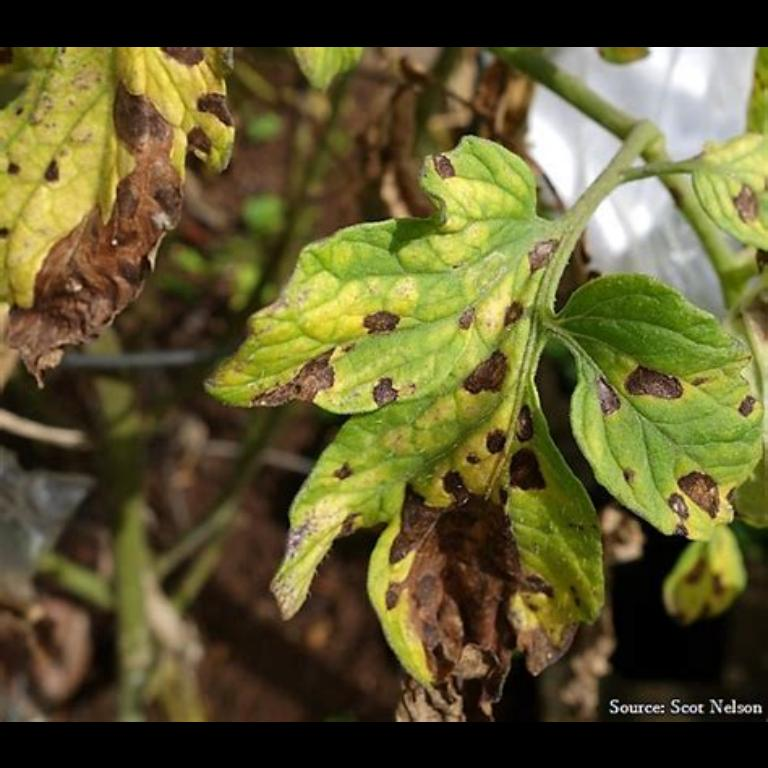blight: (1, 93, 178, 363), (398, 464, 560, 698)
